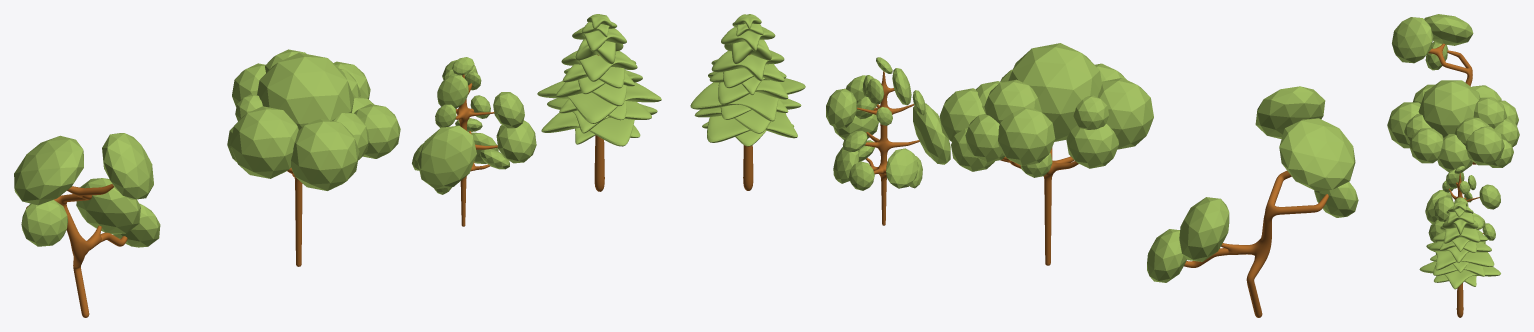
Rendered from tree.fbx.
3 views of the same model, side by side, from view 1: azimuth 30°, elevation 25°; view 2: azimuth 150°, elevation 25°; view 3: azimuth 270°, elevation 25° (orthographic). The views are drawn at different scales.
Visible parts, largest first — view 1: tree.003, tree, tree.001, tree.004; view 2: tree.003, tree, tree.004, tree.001; view 3: tree.003, tree.001, tree, tree.004.
Part boxes in pixels (x1,y1,x2,y2): tree.003: (227,49,400,266); tree: (14,133,160,317); tree.001: (537,14,661,191); tree.004: (412,57,536,226); tree.003: (939,43,1153,265); tree: (1147,86,1358,317); tree.004: (826,57,950,225); tree.001: (690,14,805,190); tree.003: (1387,80,1519,172); tree.001: (1419,201,1500,317); tree: (1392,14,1501,100); tree.004: (1425,166,1500,243).
Bounding box in the file's own units: 1526 × 483 × 413.
